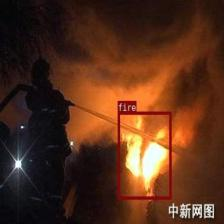fire: (117, 111, 171, 198)
